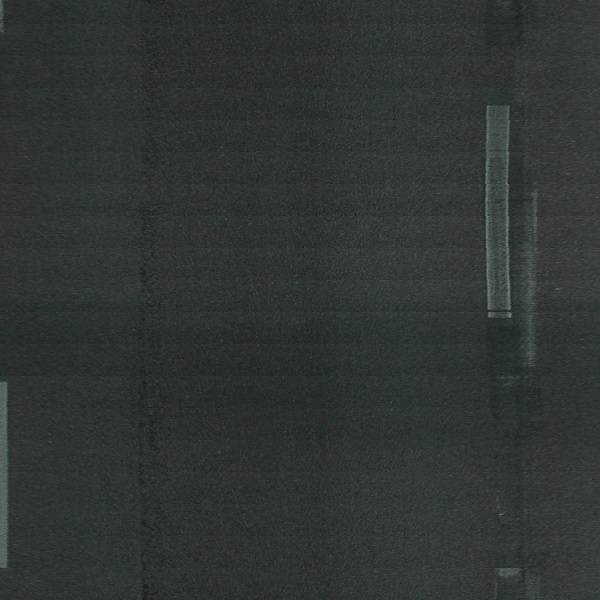road_damage: (130, 364, 163, 562)
